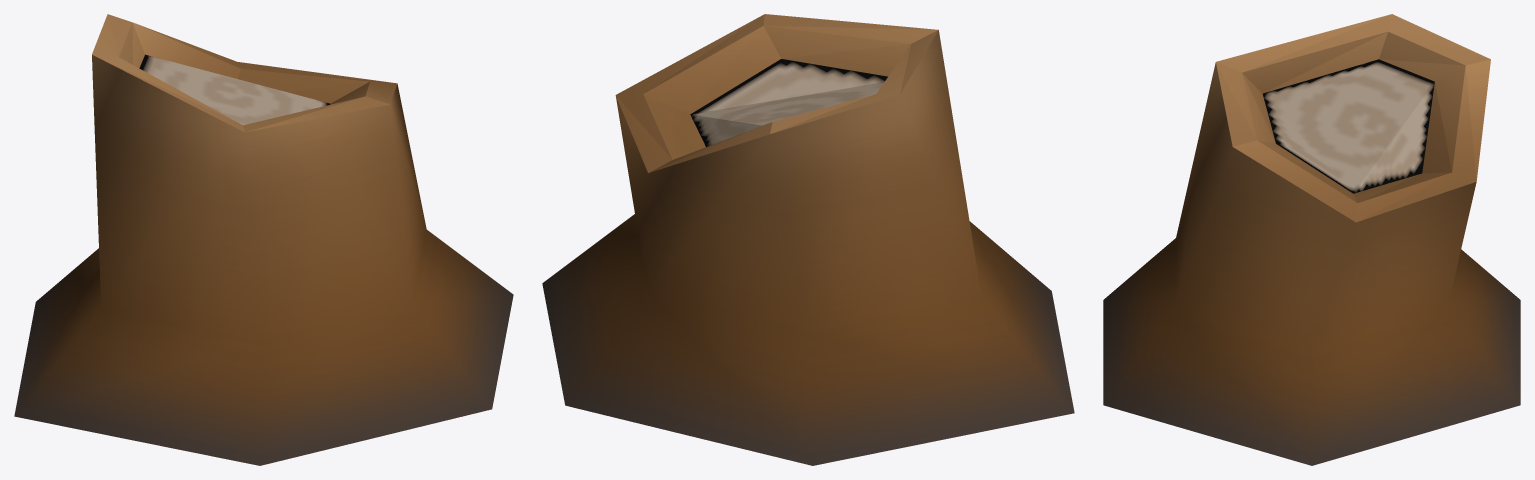
File: deco_stump_B.FBX
3 views of the same model, side by side, from view 1: azimuth 30°, elevation 25°; view 2: azimuth 150°, elevation 25°; view 3: azimuth 270°, elevation 25° (orthographic). The views are drawn at different scales.
Parts seen in each view (by area): view 1: deco_stump_B; view 2: deco_stump_B; view 3: deco_stump_B.
Boxes of the visible parts, x1,y1,x2,y2 form: deco_stump_B: (14,14,513,465); deco_stump_B: (542,14,1074,465); deco_stump_B: (1103,14,1520,465).
Bounding box in the file's own units: 1.72 × 0.9901 × 1.34.
Materials: 1 (1 with a texture image).
